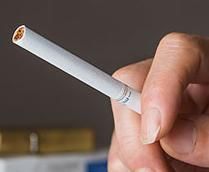smoke: (11, 24, 166, 121)
